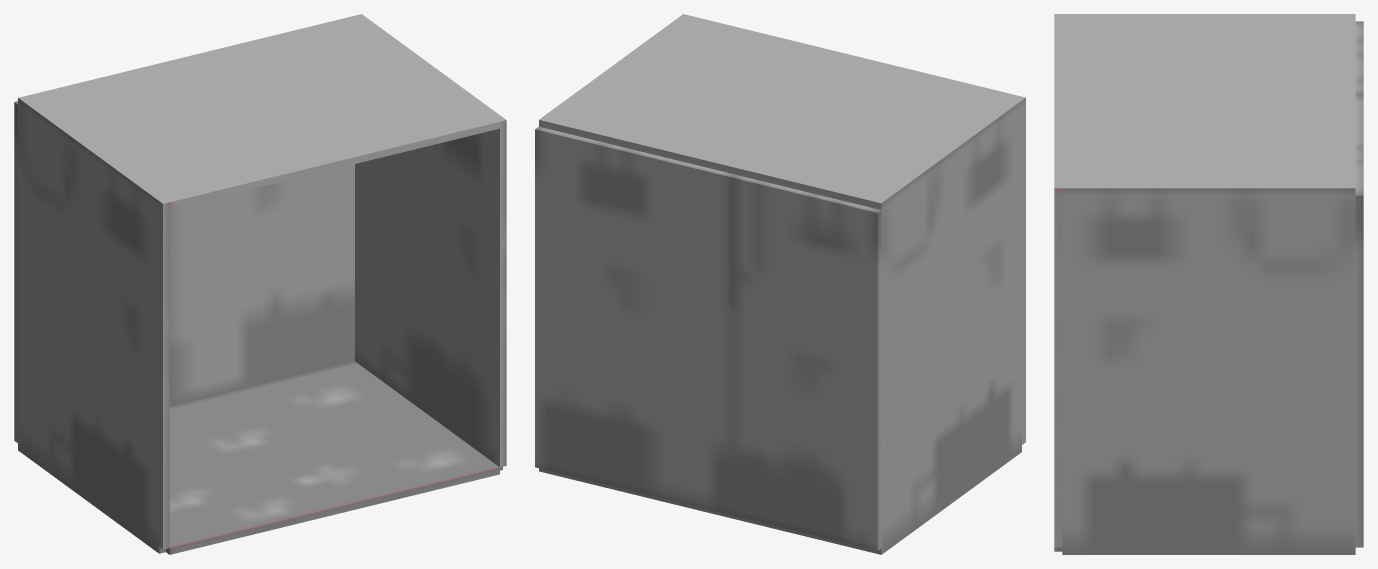
Rendered from BuildingModule_Interior_D_00.fbx.
3 views of the same model, side by side, from view 1: azimuth 30°, elevation 25°; view 2: azimuth 150°, elevation 25°; view 3: azimuth 270°, elevation 25° (orthographic). The views are drawn at different scales.
Visible parts, largest first — view 1: BuildingModule_Interior_D_00; view 2: BuildingModule_Interior_D_00; view 3: BuildingModule_Interior_D_00.
Part boxes in pixels (x1=…): BuildingModule_Interior_D_00: x1=14, y1=14, x2=506, y2=554; BuildingModule_Interior_D_00: x1=535, y1=14, x2=1025, y2=554; BuildingModule_Interior_D_00: x1=1054, y1=14, x2=1363, y2=554.
Size of the model in its own units: 260 by 255 by 195.
